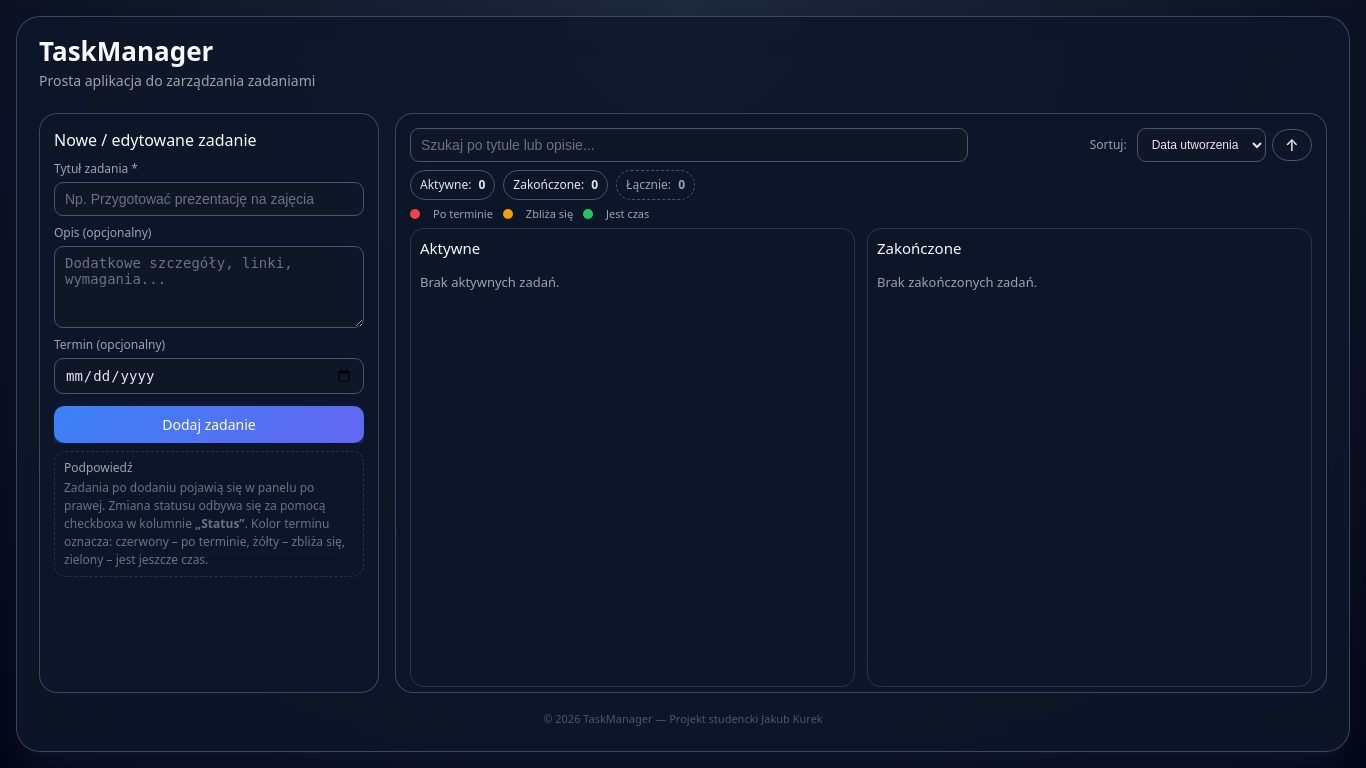
Scenario: Integration Tests: App Component › should show error when trying to add empty task
What coordinates should you click on to do the following:
click the button "Dodaj zadanie"
I would click on:
 (209, 424)
Its box is [54,406,364,443].
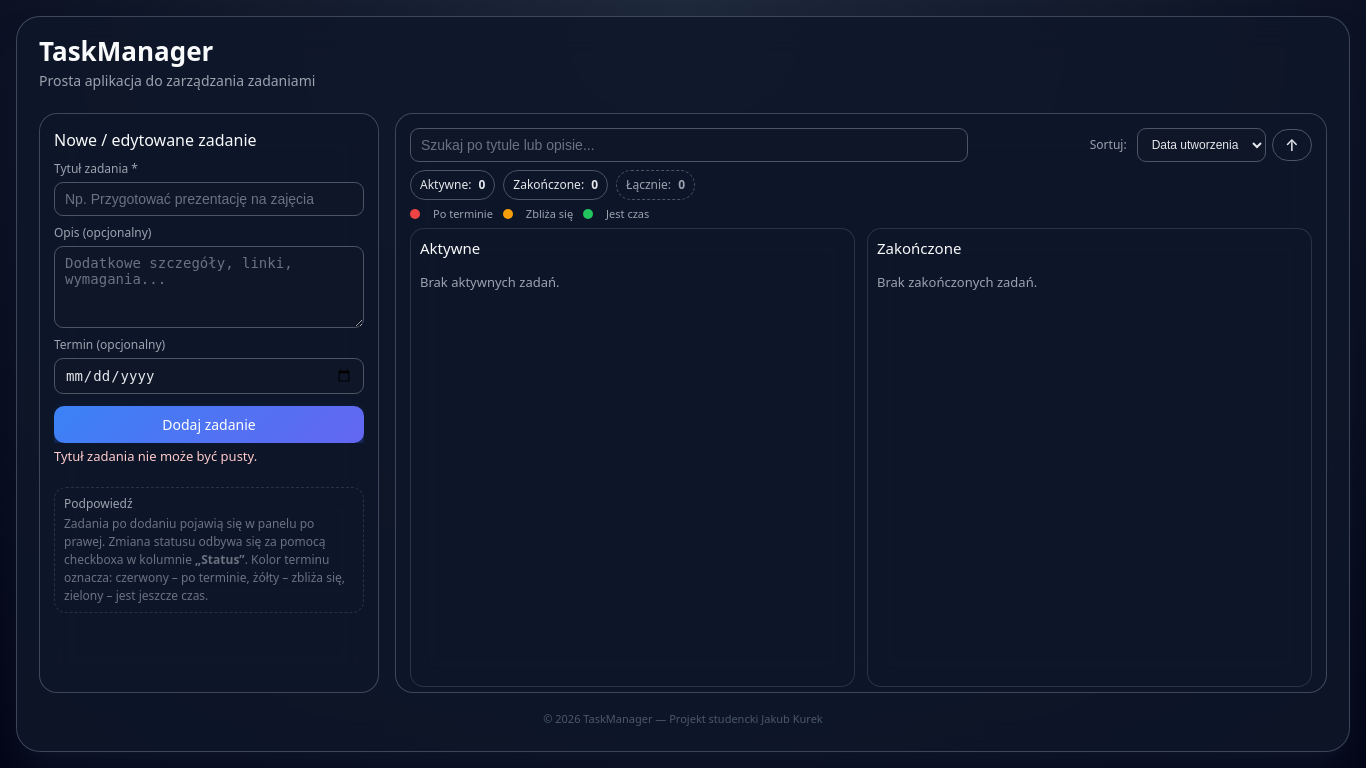
Result: the text "Tytuł zadania nie może być pusty." is shown at [54,447,257,465]
